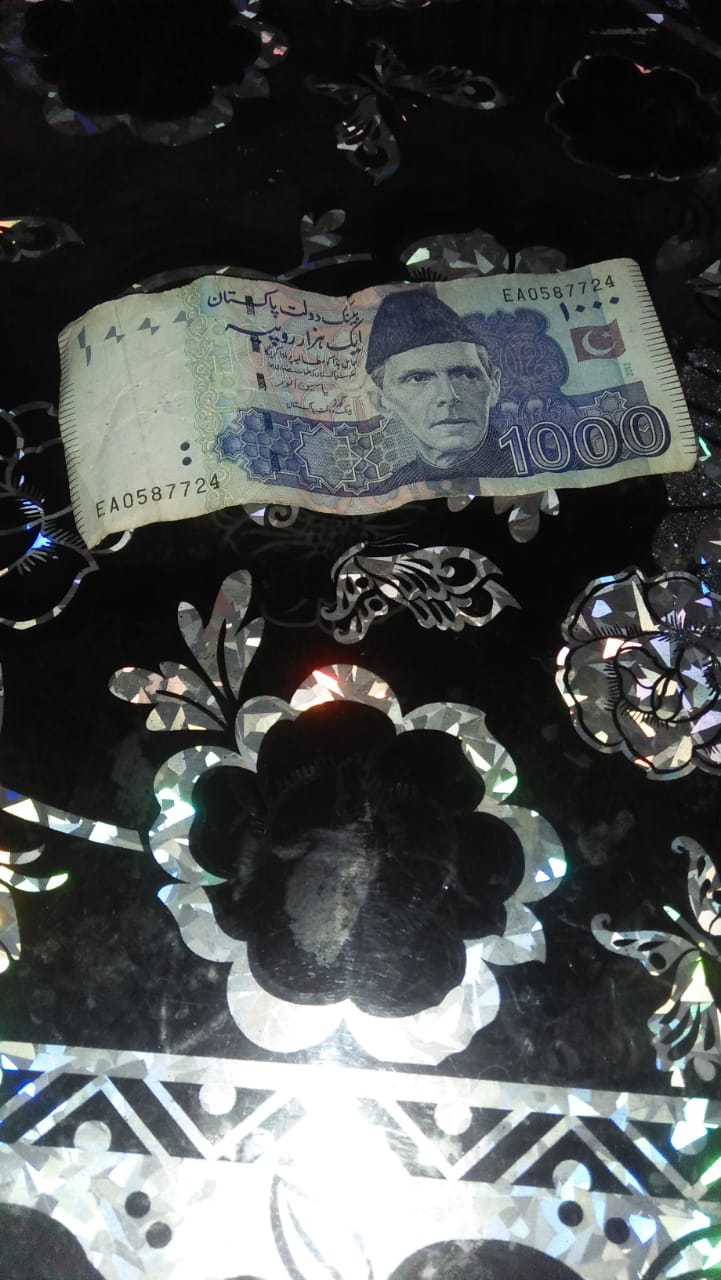1000 rupee: (47, 210, 709, 610)
